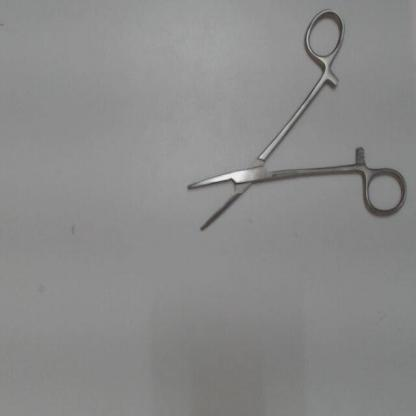Mayo Needle Holder: (179, 4, 413, 242)
